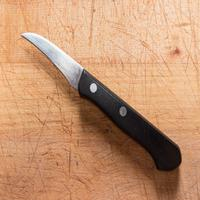knife: (16, 25, 182, 164)
